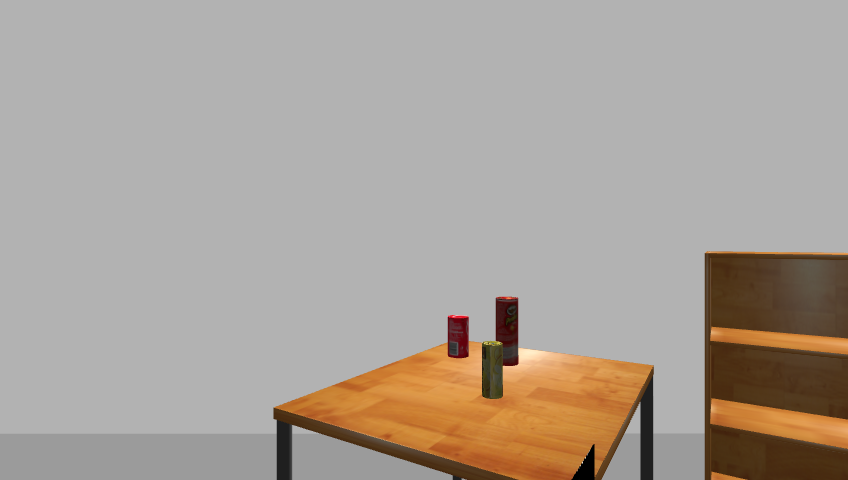aruco marker: (565, 445, 598, 480)
biscuits pack: (480, 341, 504, 400)
bookshelf: (698, 250, 848, 479)
coke can: (446, 315, 471, 359)
dinner table: (266, 342, 663, 479)
pringles can: (492, 295, 521, 368)
